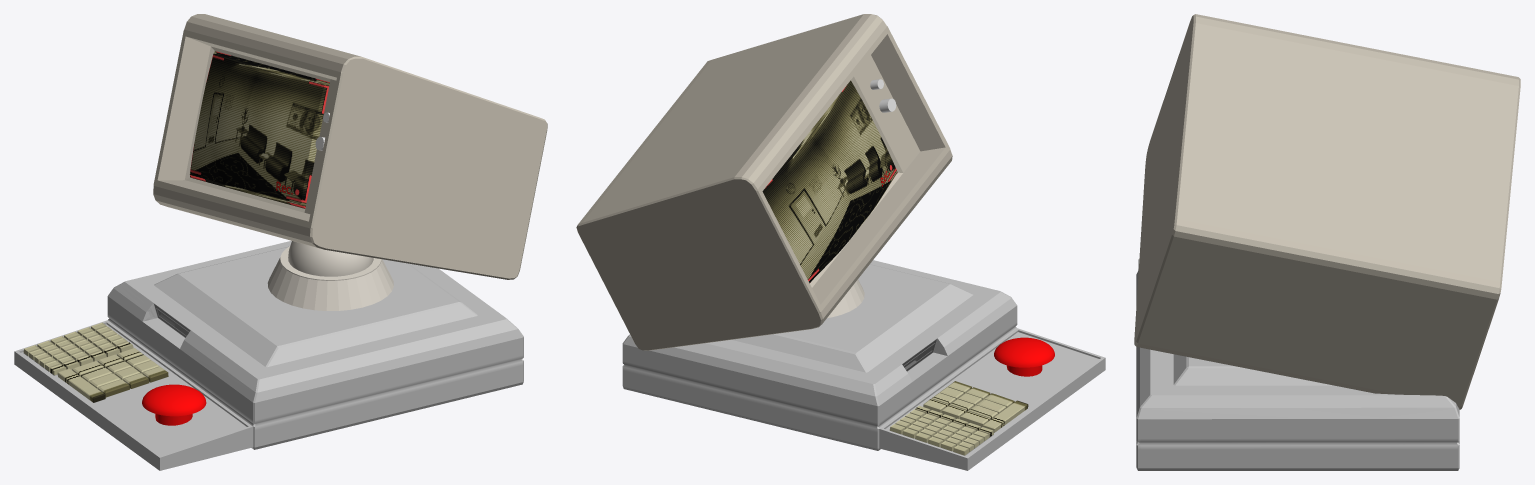
File: Cartoony_Computer.FBX
3 views of the same model, side by side, from view 1: azimuth 30°, elevation 25°; view 2: azimuth 150°, elevation 25°; view 3: azimuth 270°, elevation 25° (orthographic). The views are drawn at different scales.
Parts seen in each view (by area): view 1: ComputerScreen, Computer_cabinett, Computer_bridge, Computer_tilt, Computer_destructButton; view 2: ComputerScreen, Computer_cabinett, Computer_destructButton, Computer_bridge; view 3: ComputerScreen, Computer_cabinett.
Boxes of the visible parts, x1,y1,x2,y2 form: ComputerScreen: (153, 14, 547, 279); Computer_cabinett: (14, 240, 523, 470); Computer_bridge: (267, 246, 393, 310); Computer_tilt: (288, 241, 373, 276); Computer_destructButton: (142, 384, 206, 425); ComputerScreen: (576, 14, 952, 350); Computer_cabinett: (622, 260, 1105, 470); Computer_destructButton: (994, 337, 1054, 376); Computer_bridge: (827, 279, 864, 317); ComputerScreen: (1134, 14, 1520, 409); Computer_cabinett: (1136, 259, 1459, 470).
Size of what is drawn, in the model's own units: 56.21 by 45.56 by 42.21.
